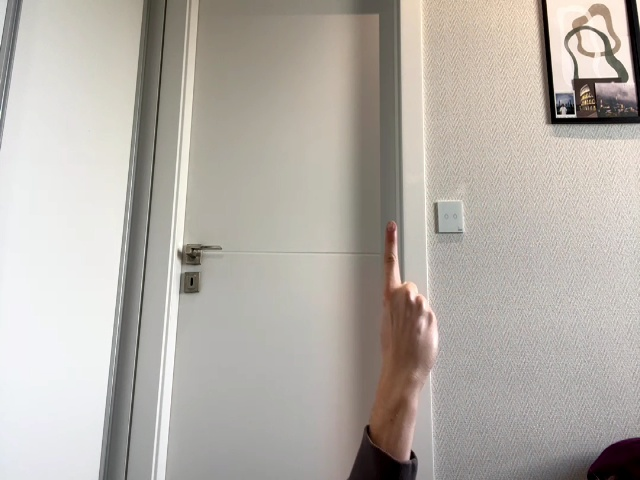D: (381, 221, 438, 399)
